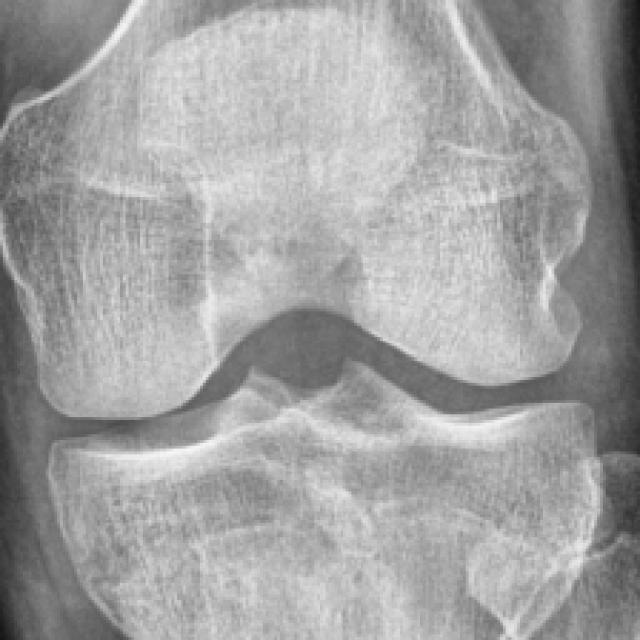femur: (0, 0, 592, 419)
tibia: (50, 363, 601, 640)
